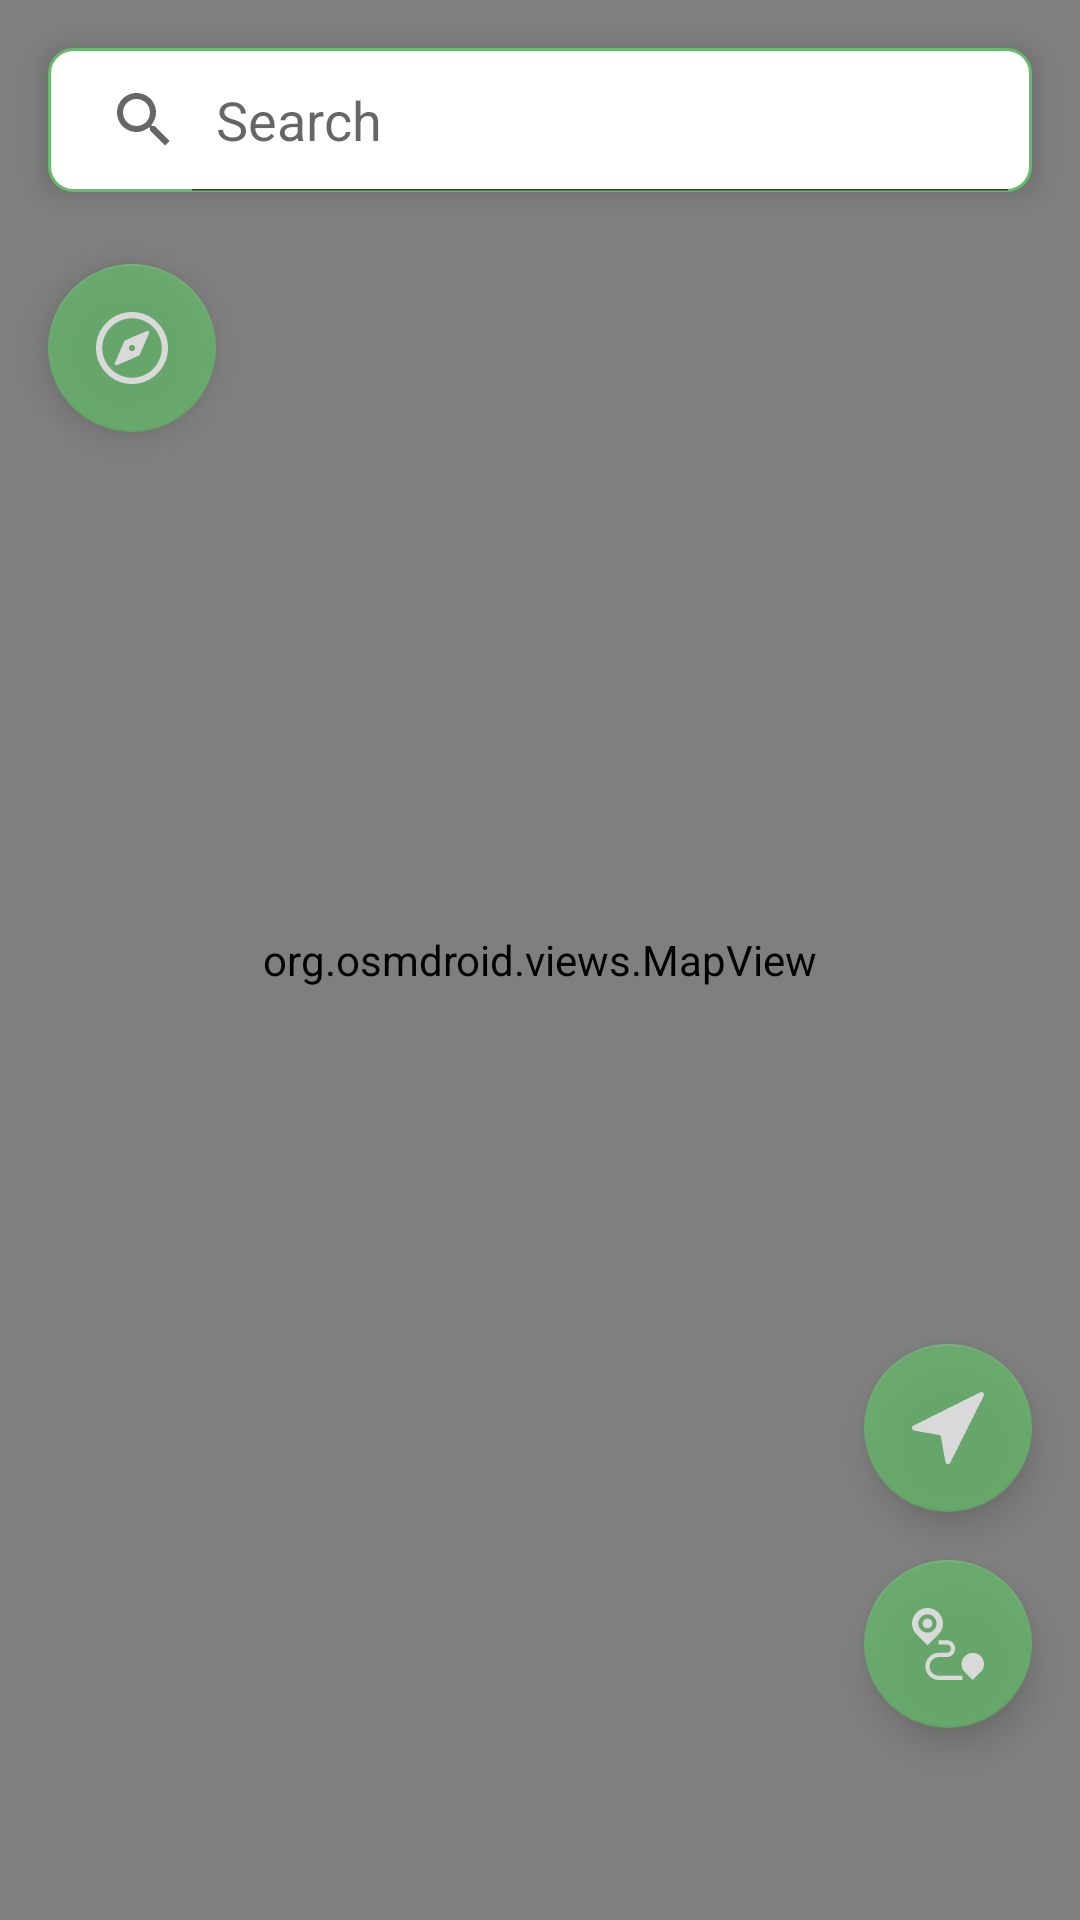

Point at icon controls on the screen. Image size 1080x1920, points as [x,y].
build route: [948,1644]
compass: [132,348]
location: [948,1428]
